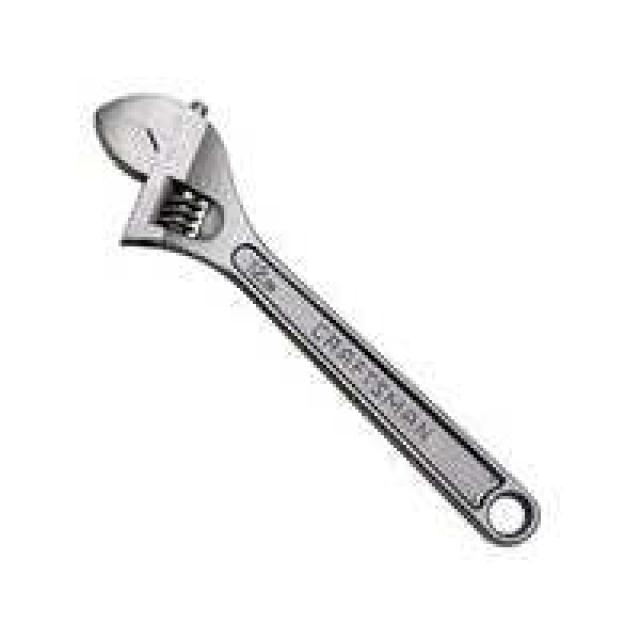wrench: (96, 92, 540, 545)
